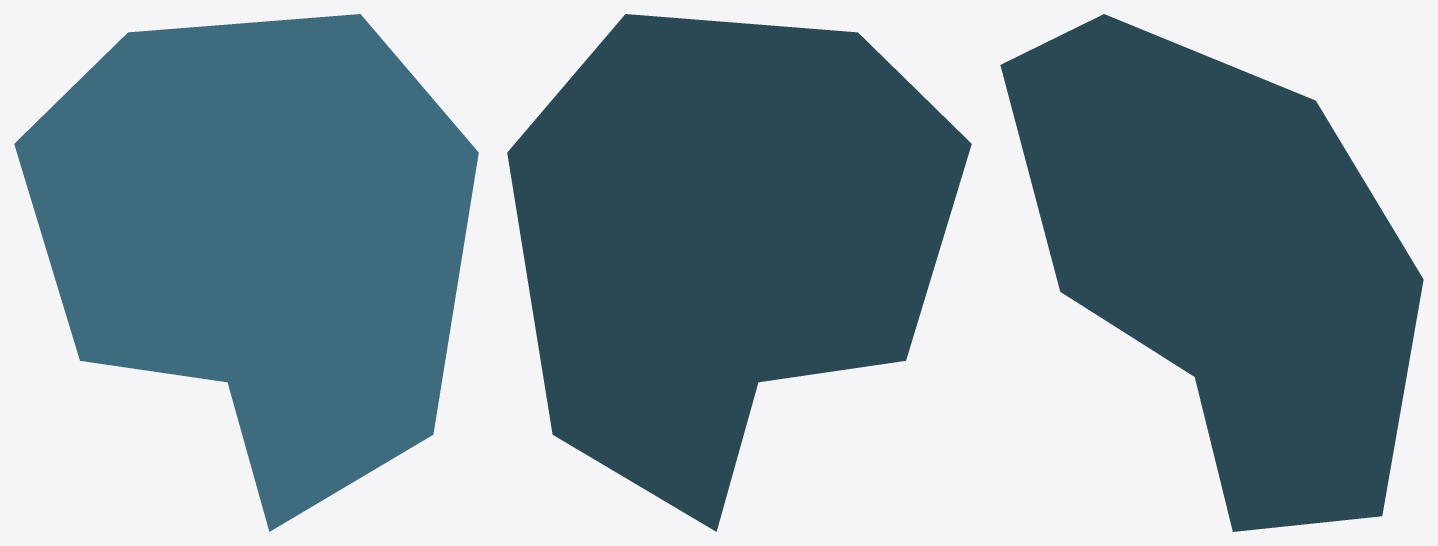
The model's file is NexusA_Cloth_22.fbx.
The picture shows the model from 3 angles, left to right: view 1: azimuth 30°, elevation 25°; view 2: azimuth 150°, elevation 25°; view 3: azimuth 330°, elevation 25°; orthographic projection. The views are drawn at different scales.
Parts seen in each view (by area): view 1: pasted__polySurface84; view 2: pasted__polySurface84; view 3: pasted__polySurface84.
Part boxes in pixels (<box>): pasted__polySurface84: <box>14,14,478,531</box>; pasted__polySurface84: <box>507,14,971,531</box>; pasted__polySurface84: <box>1000,14,1423,531</box>.
Bounding box in the file's own units: 49.91 × 54.82 × 6.58e-06.
